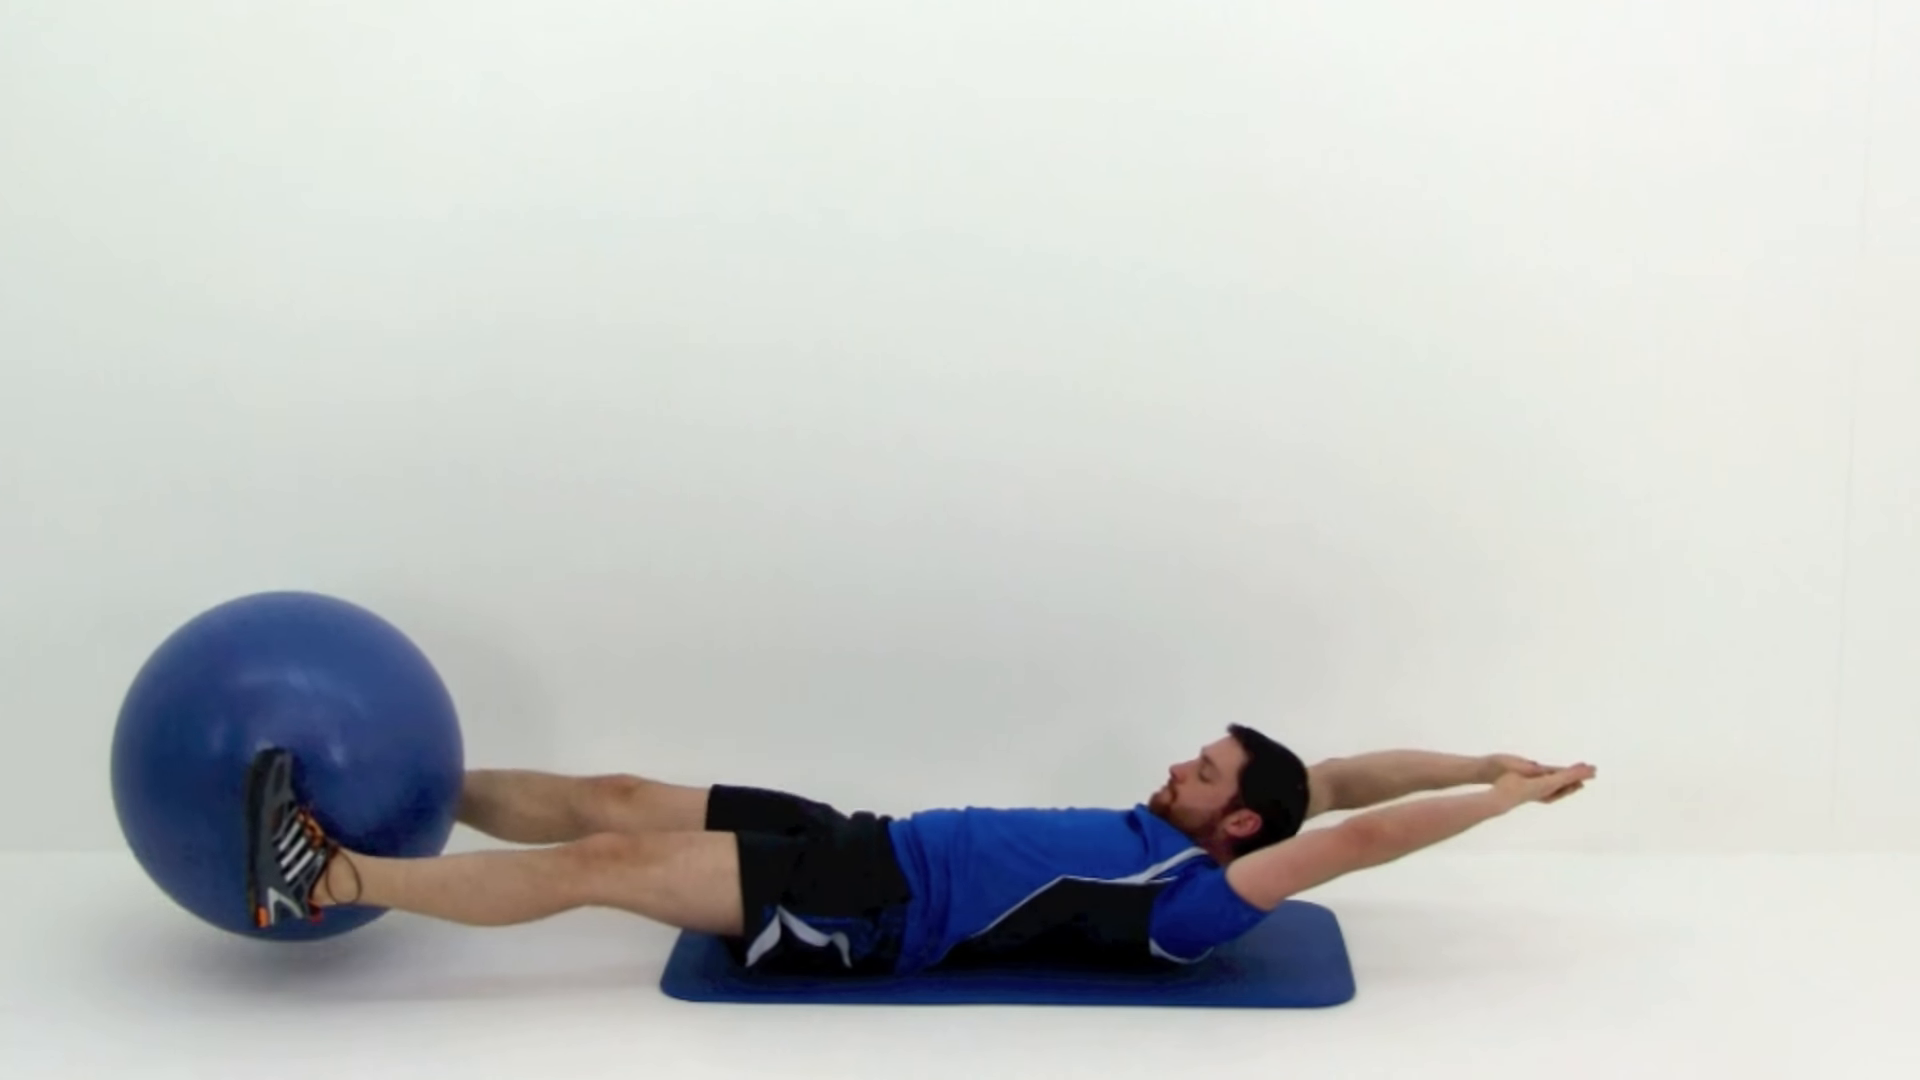yogaball: (92, 574, 481, 960)
